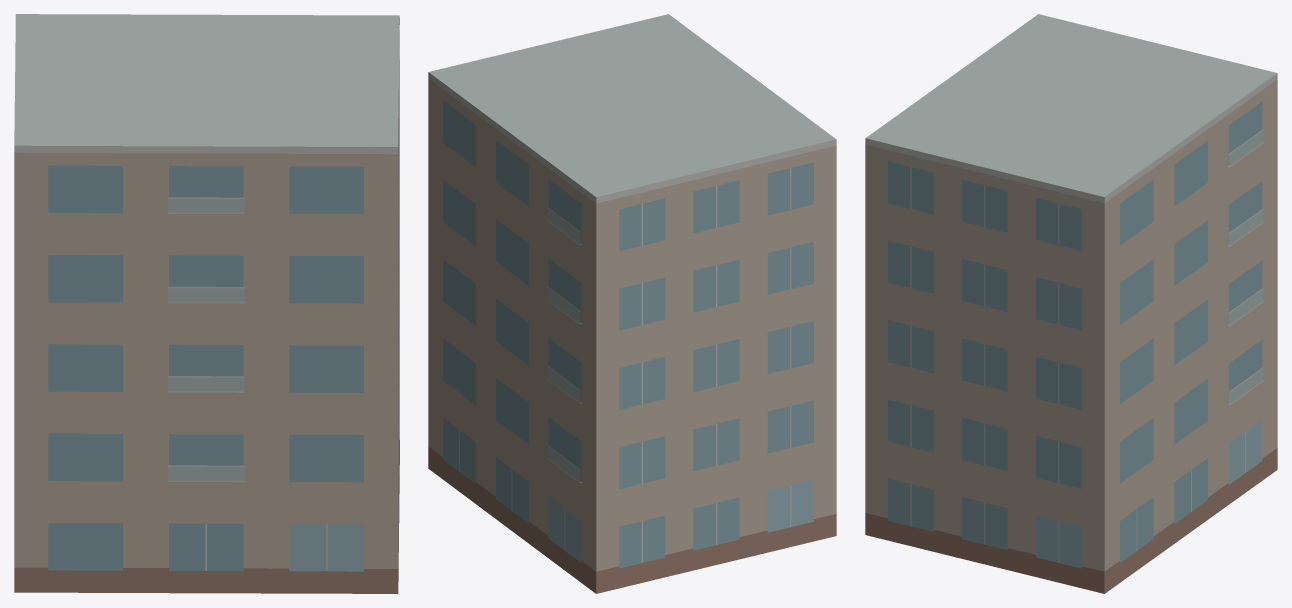
File: survey-upis-32945730.glb
3 renders of one model, left to right at view 1: azimuth 30°, elevation 25°; view 2: azimuth 150°, elevation 25°; view 3: azimuth 270°, elevation 25°, orthographic. The views are drawn at different scales.
Visible parts, largest first — view 1: survey-upis-32945730.tmp; view 2: survey-upis-32945730.tmp; view 3: survey-upis-32945730.tmp.
Boxes of the visible parts, x1,y1,x2,y2 form: survey-upis-32945730.tmp: [14, 14, 399, 593]; survey-upis-32945730.tmp: [428, 14, 836, 593]; survey-upis-32945730.tmp: [865, 14, 1277, 593].
Bounding box in the file's own units: 15.25 × 15.4 × 14.5.
